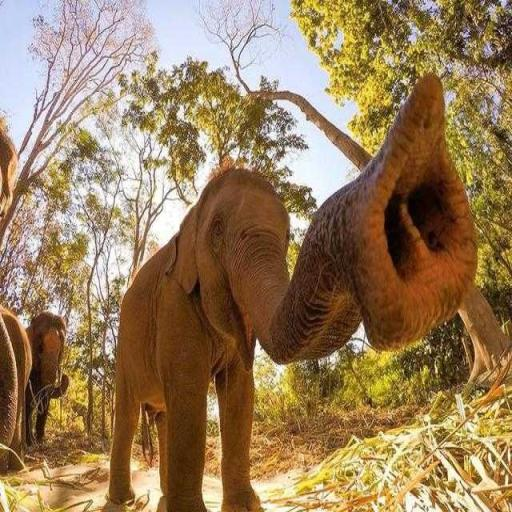Elephant: (107, 163, 292, 511), (24, 310, 68, 446), (0, 305, 33, 473)
